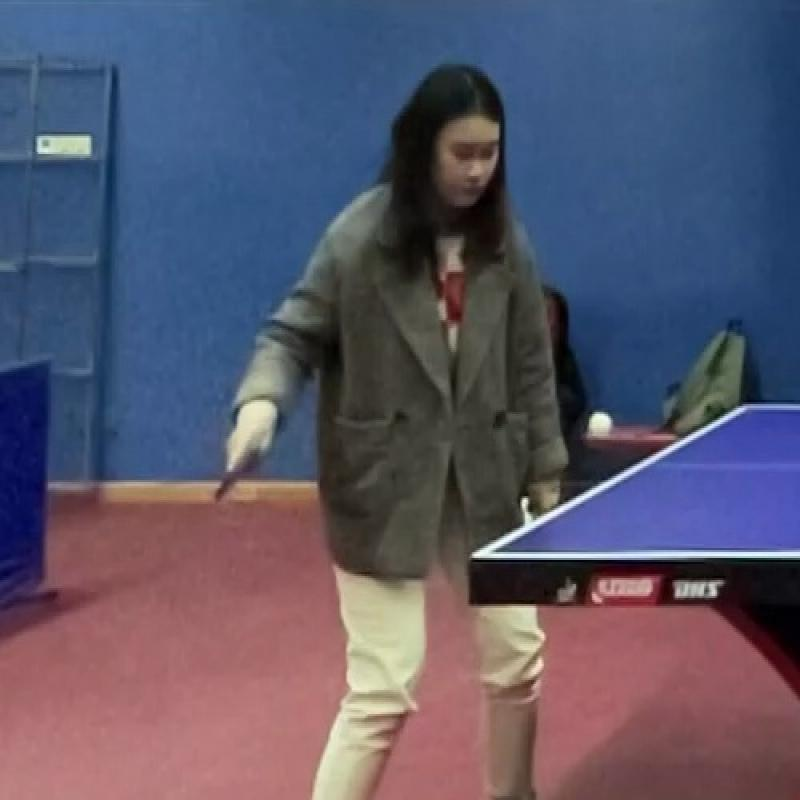bats: (186, 416, 288, 509)
